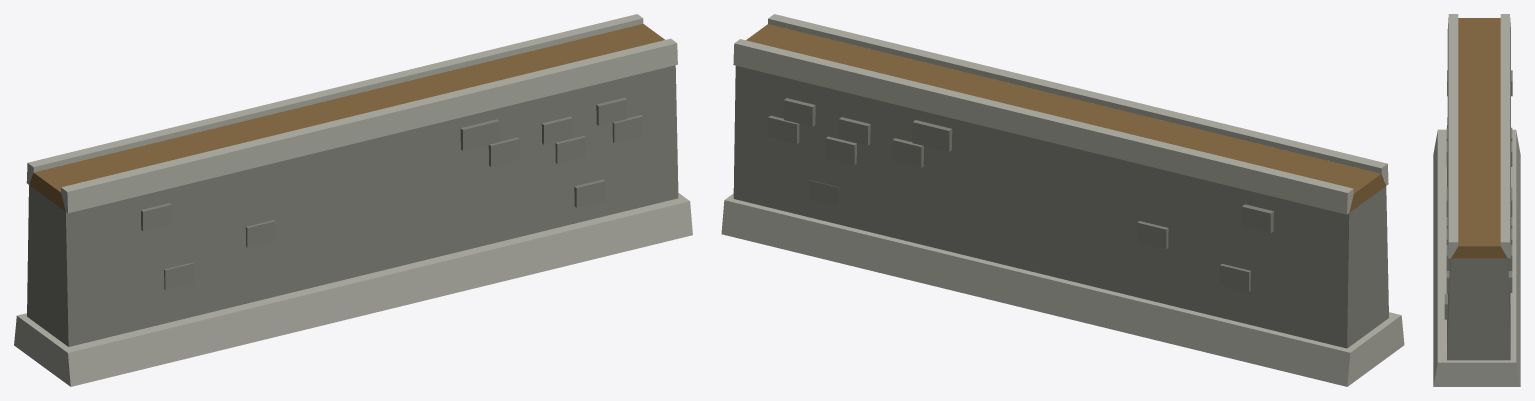
The model's file is stone-wall.glb.
3 renders of one model, left to right at view 1: azimuth 30°, elevation 25°; view 2: azimuth 150°, elevation 25°; view 3: azimuth 270°, elevation 25°, orthographic. The views are drawn at different scales.
Visible parts, largest first — view 1: Wall_SecondAge; view 2: Wall_SecondAge; view 3: Wall_SecondAge.
Boxes of the visible parts, <box> form: Wall_SecondAge: <box>14,14,692,386</box>; Wall_SecondAge: <box>721,14,1404,386</box>; Wall_SecondAge: <box>1433,14,1520,386</box>.
Size of the model in its own units: 1.56 by 0.446 by 0.2467.
